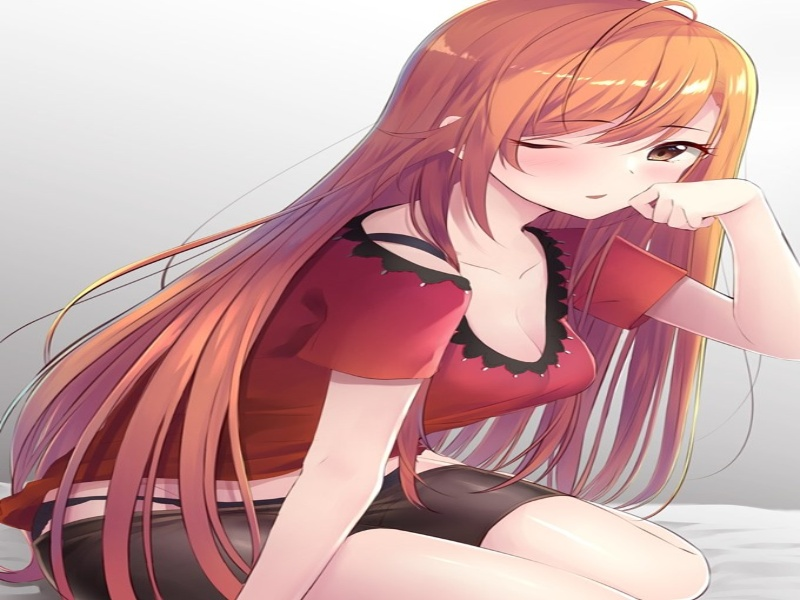person: (429, 50, 738, 234)
